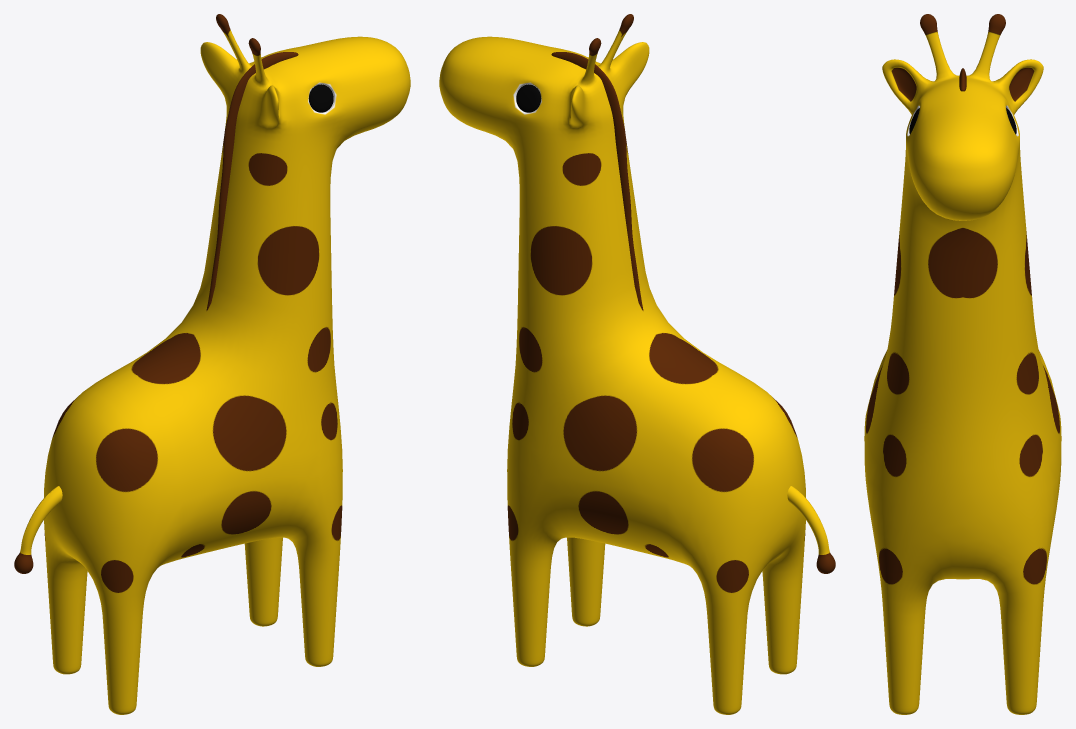
Rendered from Giraffe-002.glb.
3 renders of one model, left to right at view 1: azimuth 30°, elevation 25°; view 2: azimuth 150°, elevation 25°; view 3: azimuth 270°, elevation 25°, orthographic. The views are drawn at different scales.
Visible parts, largest first — view 1: Giraffe.002; view 2: Giraffe.002; view 3: Giraffe.002.
Boxes of the visible parts, x1,y1,x2,y2 form: Giraffe.002: [14, 14, 410, 714]; Giraffe.002: [439, 14, 835, 714]; Giraffe.002: [864, 14, 1061, 714].
Size of the model in its own units: 1.64 by 2.54 by 0.6782.
Materials: 1 (1 with a texture image).
